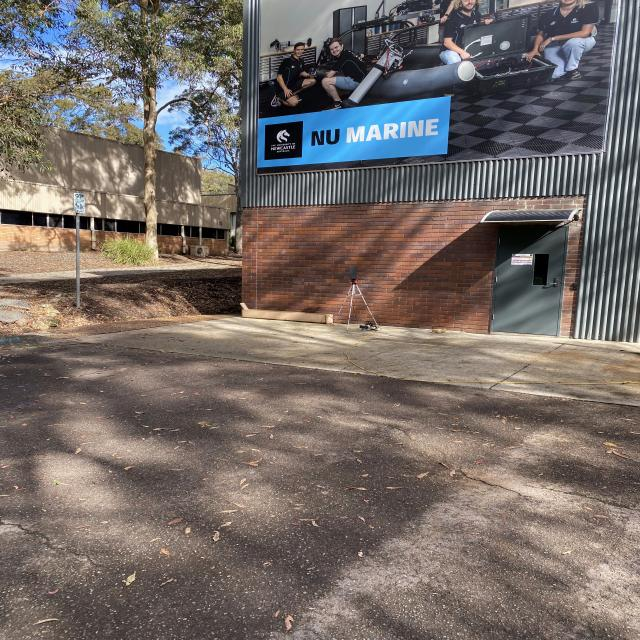matrix: (348, 266, 360, 280)
